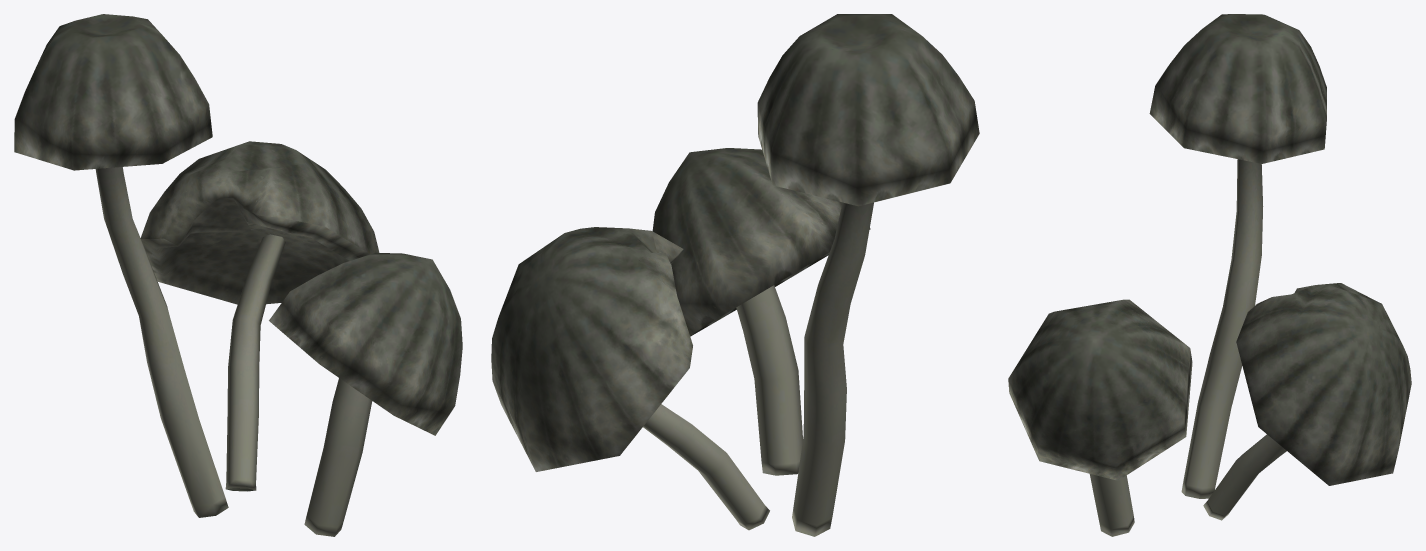
File: cave_mushrooms_02.dae
The picture shows the model from 3 angles, left to right: view 1: azimuth 30°, elevation 25°; view 2: azimuth 150°, elevation 25°; view 3: azimuth 270°, elevation 25°; orthographic projection. The views are drawn at different scales.
Visible parts, largest first — view 1: bunch_2; view 2: bunch_2; view 3: bunch_2.
Part boxes in pixels (left/top/right/bottom): bunch_2: left=14, top=14, right=462, bottom=536; bunch_2: left=491, top=14, right=979, bottom=536; bunch_2: left=1008, top=14, right=1411, bottom=536.
Bounding box in the file's own units: 0.249 × 0.3159 × 0.2607.
